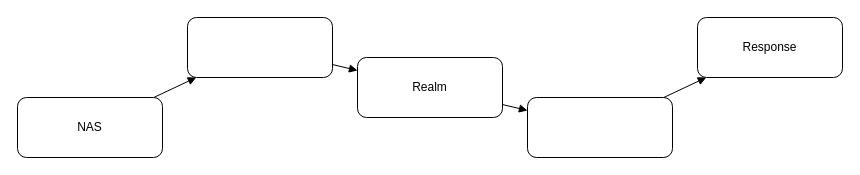
Some shapes in this 860 by 175 pixel diagram are drawn without their labels. Here are the shapes that lost their labels. From the top down, the box of each, then its label:
(186, 16, 332, 78): FAC
(526, 96, 672, 158): RADIUS
